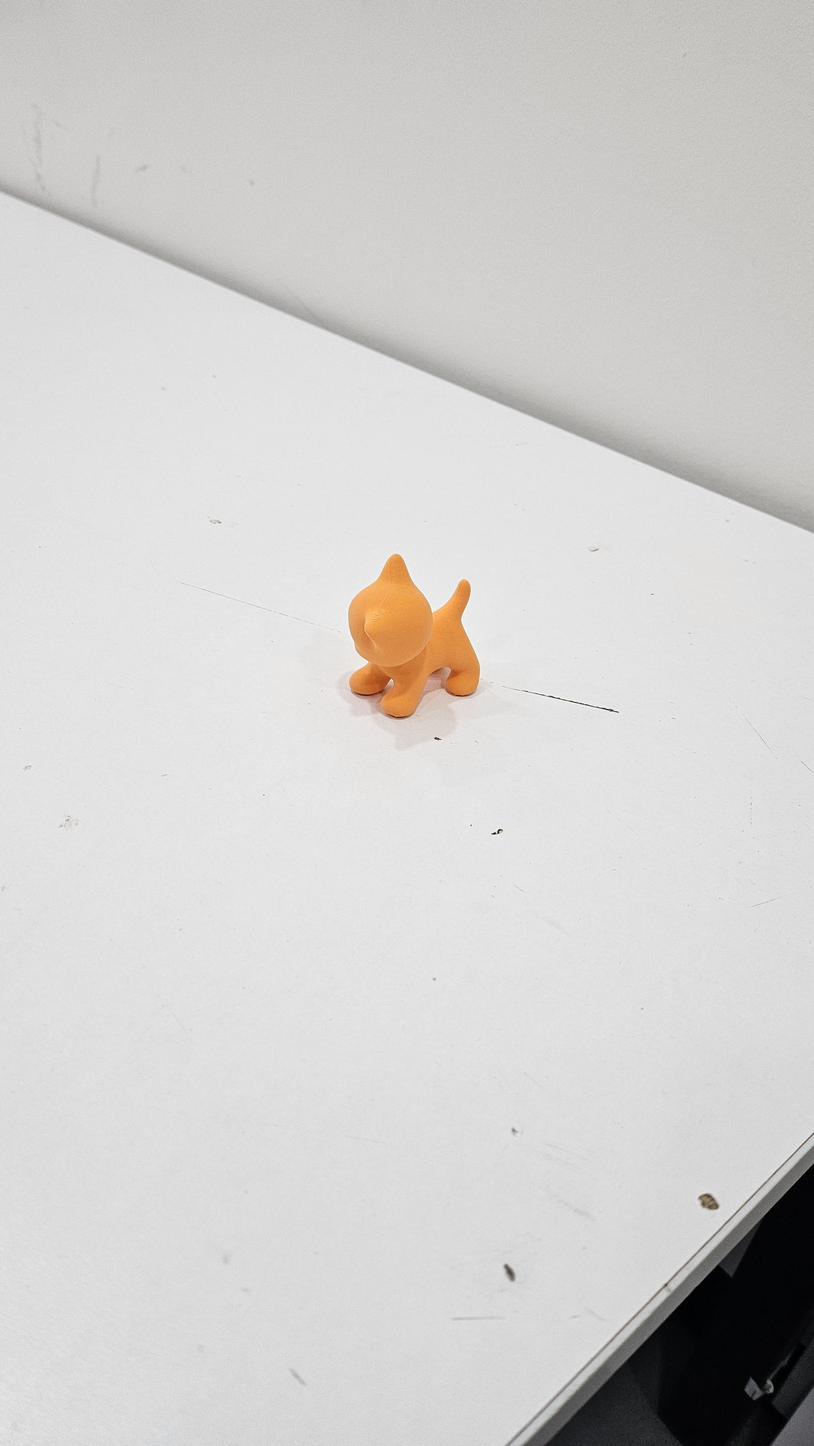cat: (342, 549, 487, 723)
